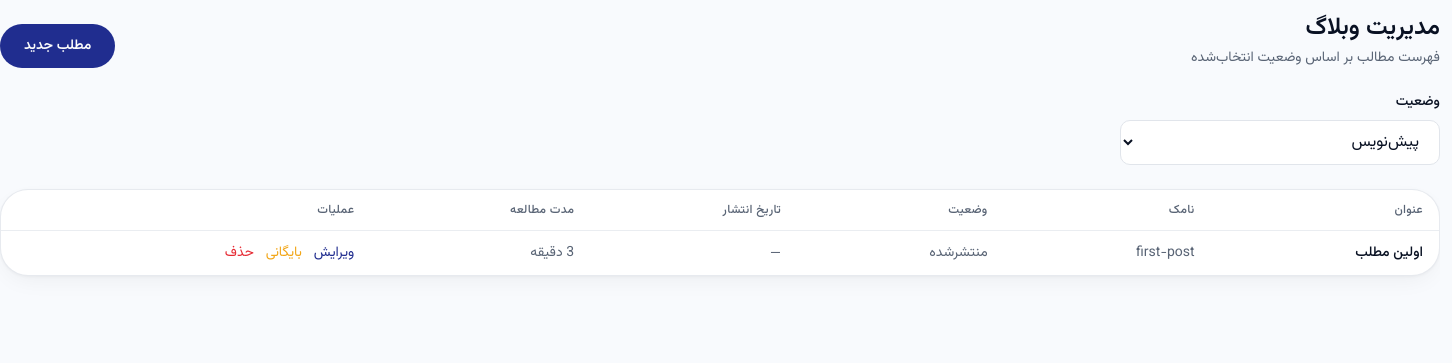
Test case: BlogListView › row workflow actions › archives a published post and refetches the current page
The width and height of the screenshot is (1452, 363).
Expected: the text "اولین مطلب" is shown, x1=1211 y1=231 x2=1439 y2=275
Click the button "بایگانی" at {"x": 284, "y": 253}, box x1=266 y1=243 x2=302 y2=263
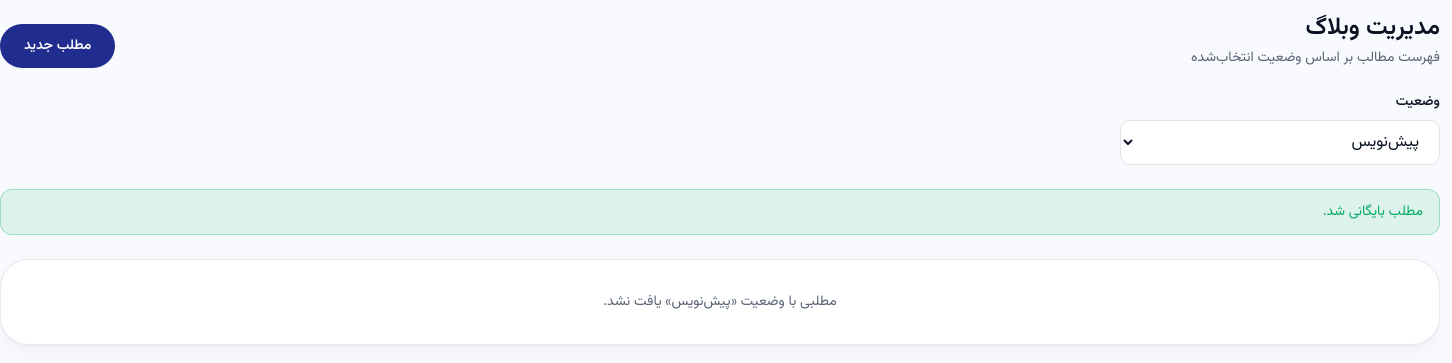
Expected: the text "مطلب بایگانی شد." is shown, x1=0 y1=189 x2=1440 y2=235
